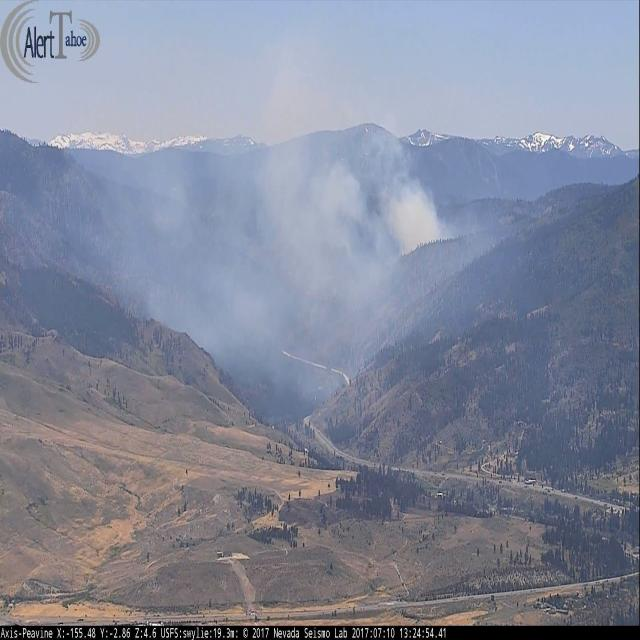smoke: (119, 145, 278, 373), (260, 136, 450, 317)
